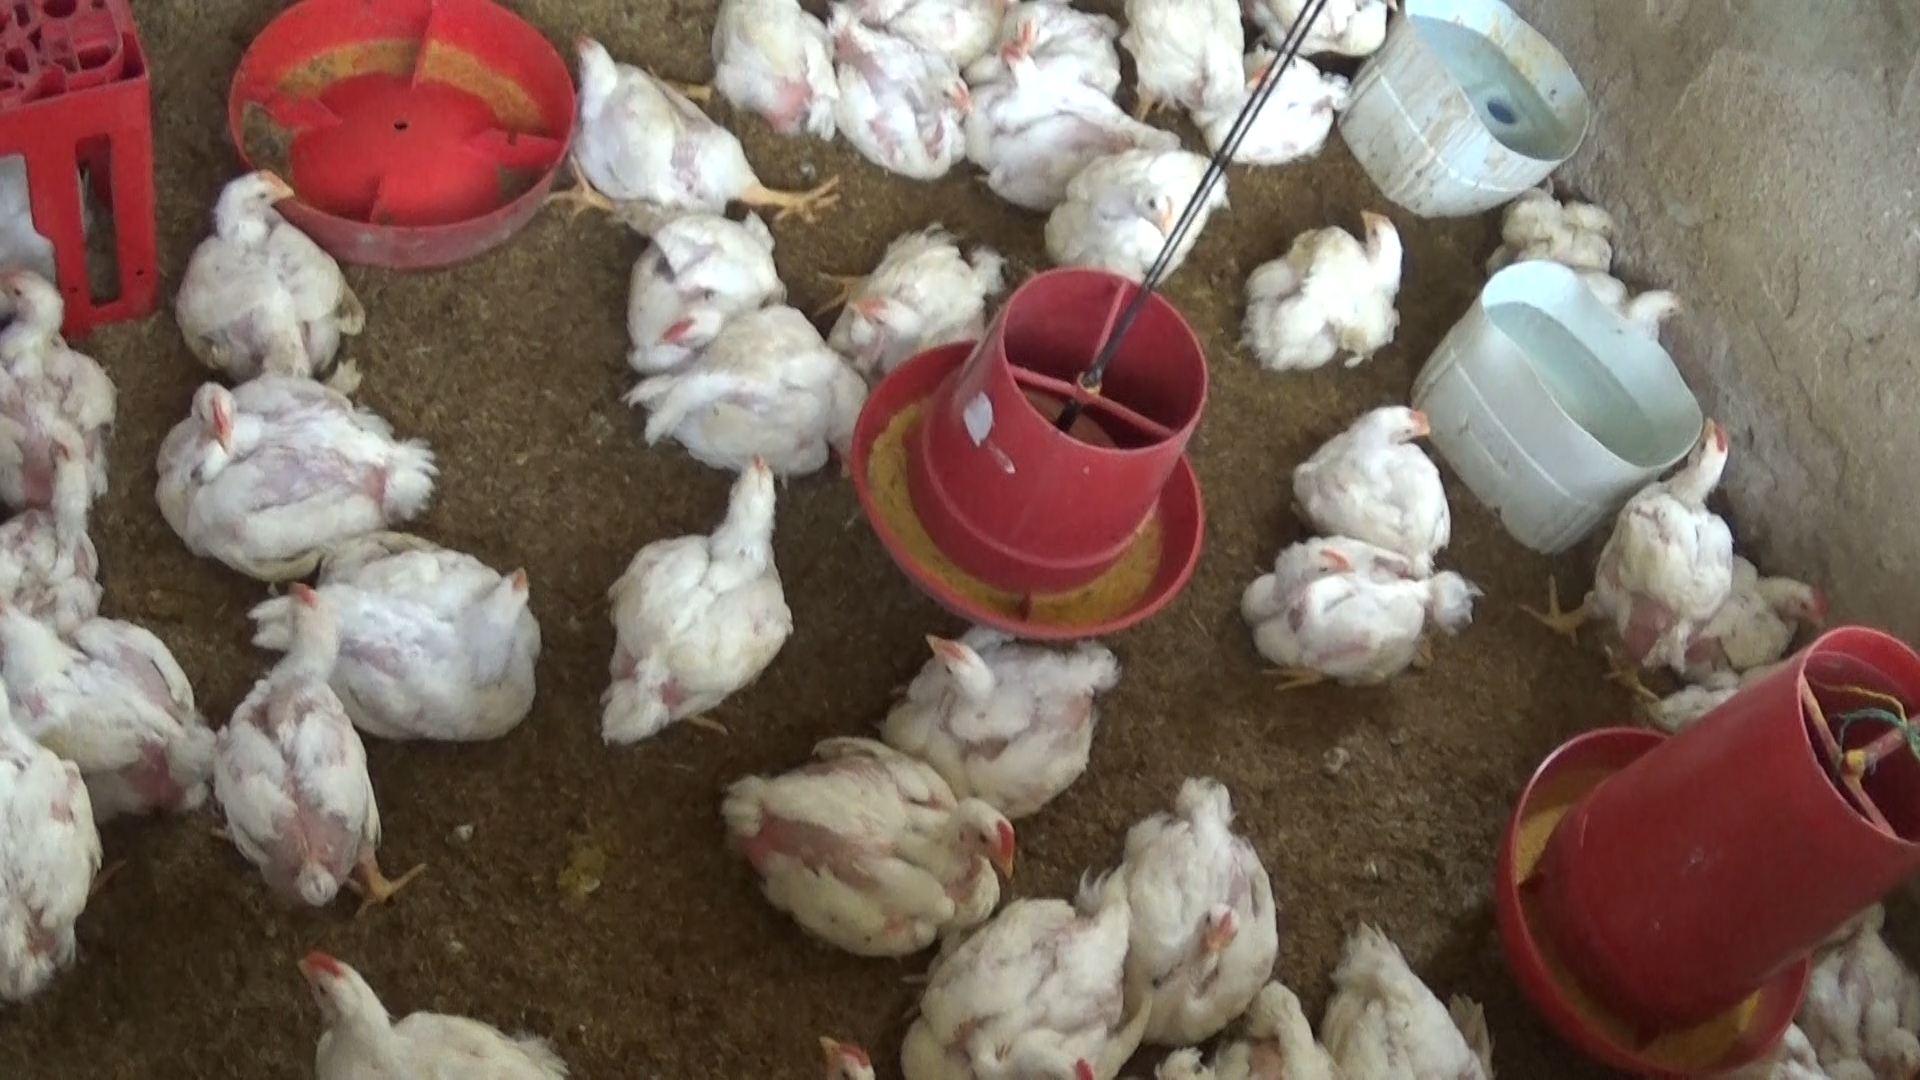Pollos: (711, 731, 1025, 961), (247, 531, 553, 744), (204, 563, 381, 907), (596, 448, 796, 744), (160, 368, 433, 564), (909, 880, 1174, 1080), (616, 302, 872, 488), (1105, 775, 1280, 1038), (884, 612, 1105, 816), (175, 160, 371, 386), (0, 612, 222, 808), (1582, 409, 1745, 676), (272, 942, 566, 1080), (1232, 526, 1458, 702), (564, 26, 757, 218), (0, 676, 113, 1000), (1305, 913, 1499, 1080), (0, 247, 127, 498), (1237, 200, 1414, 377), (1042, 144, 1241, 289), (1294, 404, 1456, 568), (825, 223, 997, 375), (621, 207, 791, 352), (820, 18, 975, 178), (702, 0, 852, 138), (1698, 551, 1837, 680), (1193, 51, 1345, 169), (1807, 928, 1920, 1080), (993, 45, 1158, 148), (1126, 0, 1245, 121), (992, 0, 1127, 76), (1592, 261, 1691, 342), (800, 1000, 893, 1080)
